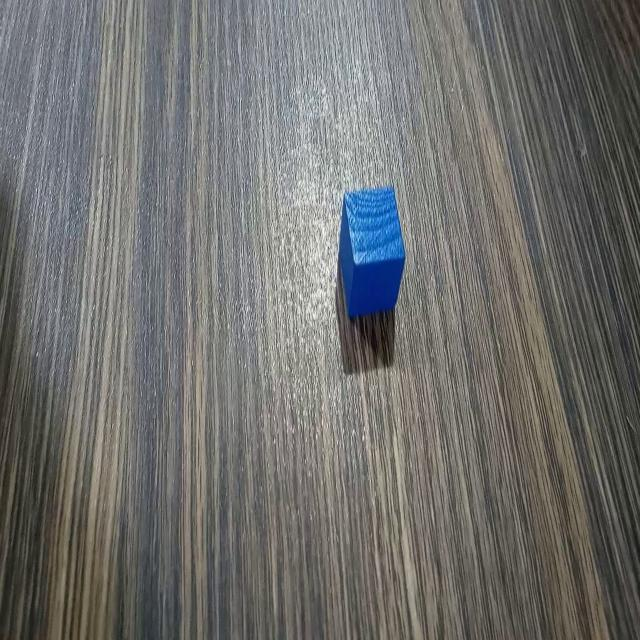cube: (334, 181, 406, 319)
